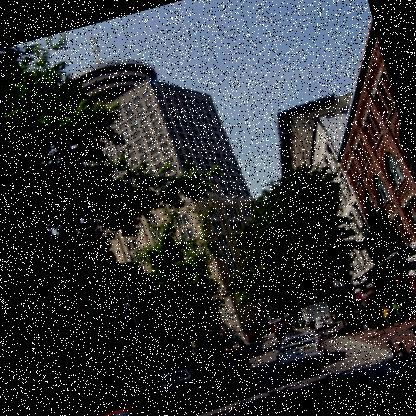Car: (158, 366, 202, 398), (81, 399, 155, 415), (314, 312, 334, 331), (245, 328, 266, 342)
